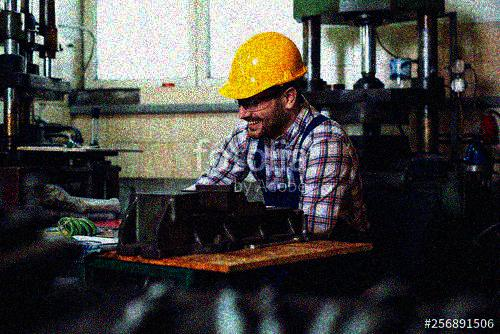helmet: (216, 31, 306, 138)
